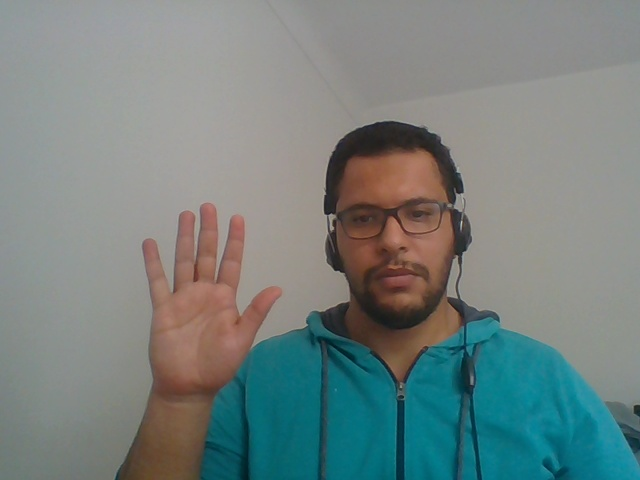hello: (116, 185, 294, 453)
